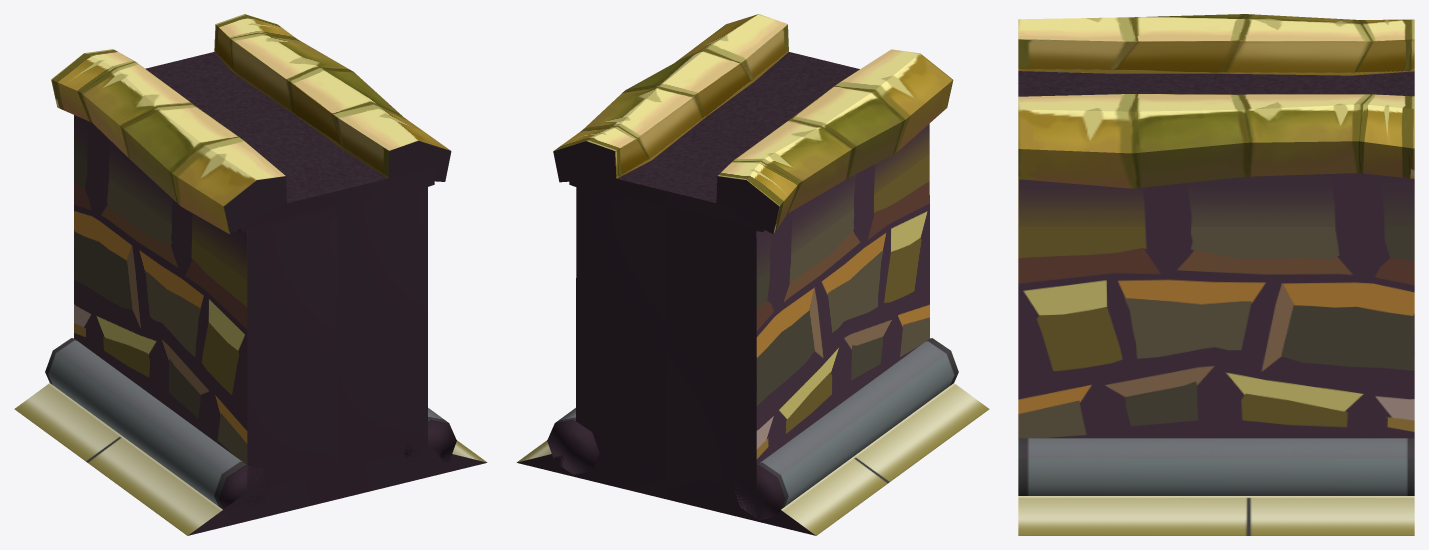
File: Int_6_Wall_Vert_B.fbx
The picture shows the model from 3 angles, left to right: view 1: azimuth 30°, elevation 25°; view 2: azimuth 150°, elevation 25°; view 3: azimuth 270°, elevation 25°; orthographic projection. The views are drawn at different scales.
Parts seen in each view (by area): view 1: Int_6_Wall_Vert_B; view 2: Int_6_Wall_Vert_B; view 3: Int_6_Wall_Vert_B.
Part boxes in pixels (x1,y1,x2,y2): Int_6_Wall_Vert_B: (14, 14, 487, 535); Int_6_Wall_Vert_B: (516, 14, 989, 535); Int_6_Wall_Vert_B: (1018, 14, 1414, 535).
Size of the model in its own units: 1 by 1.08 by 1.
Materials: 1 (1 with a texture image).
